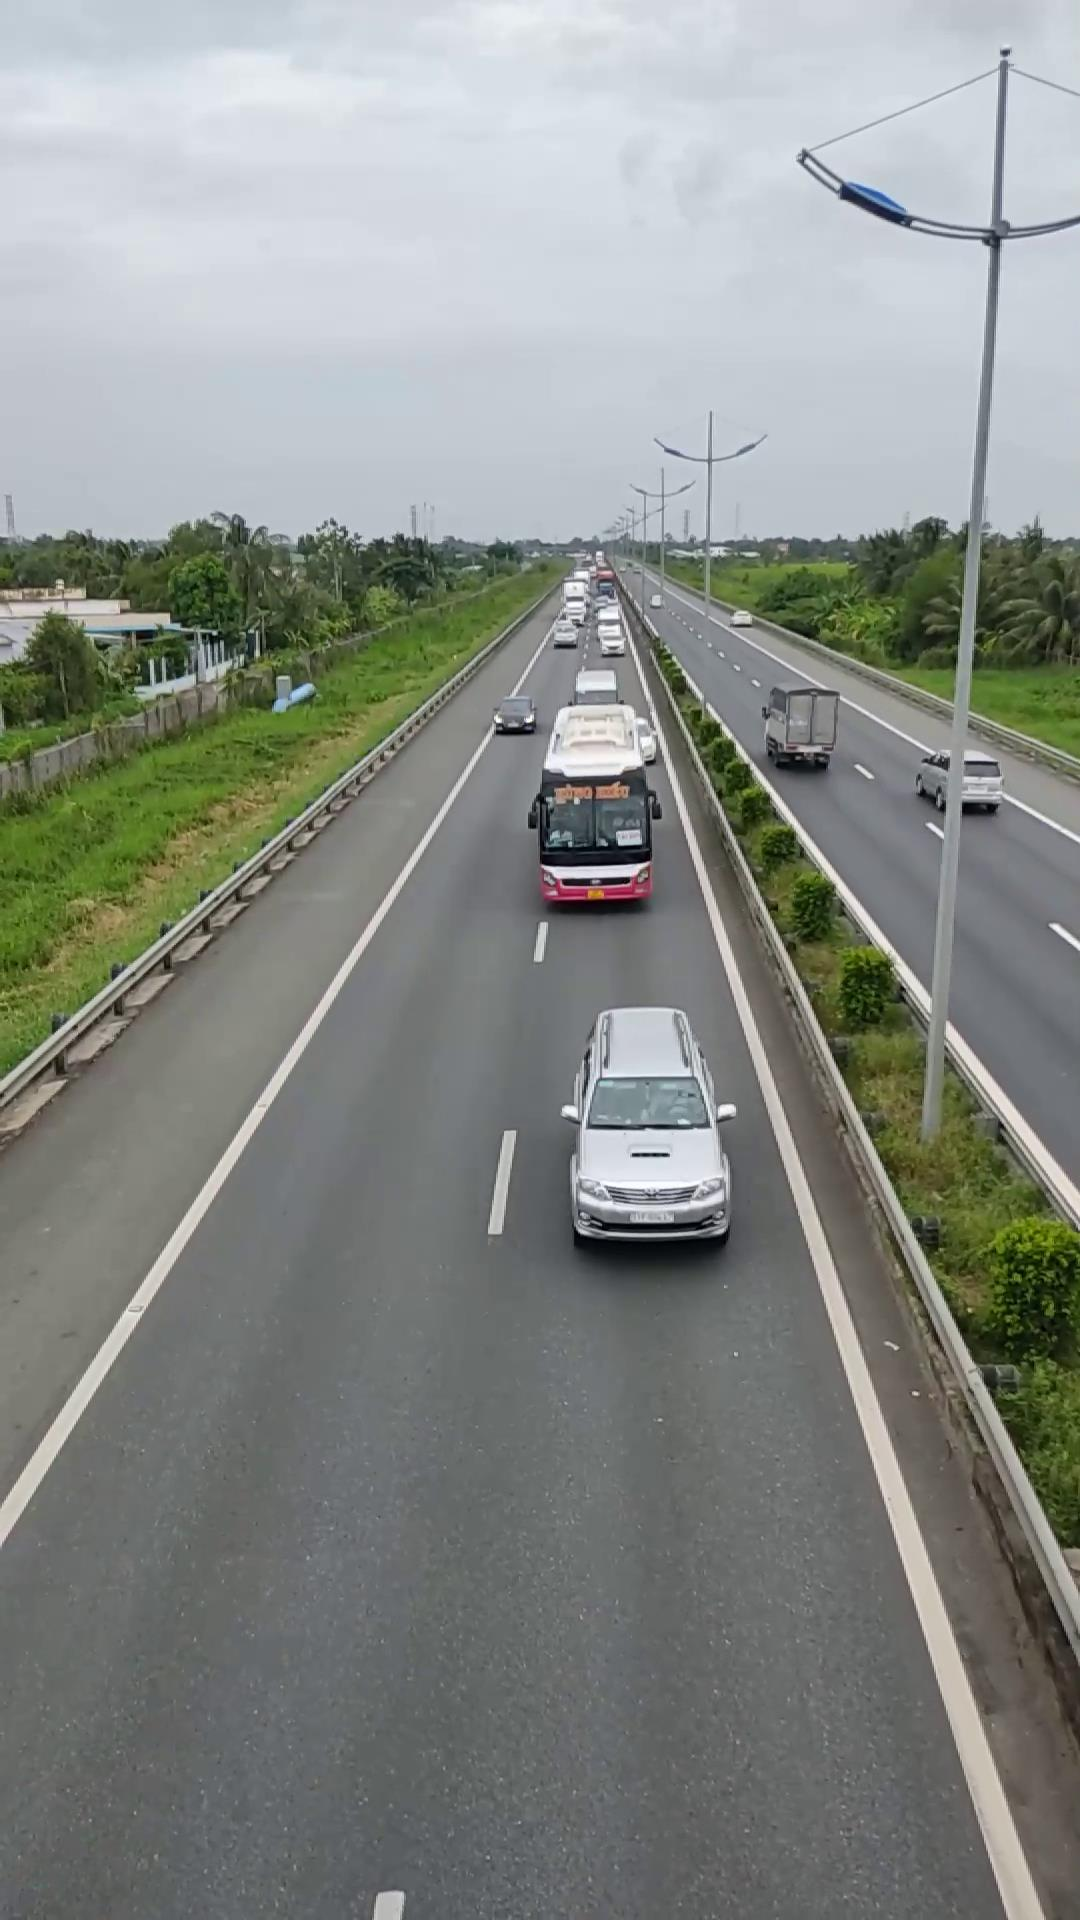bus: (530, 703, 659, 906)
car: (562, 1004, 736, 1246)
truck: (761, 677, 838, 770)
